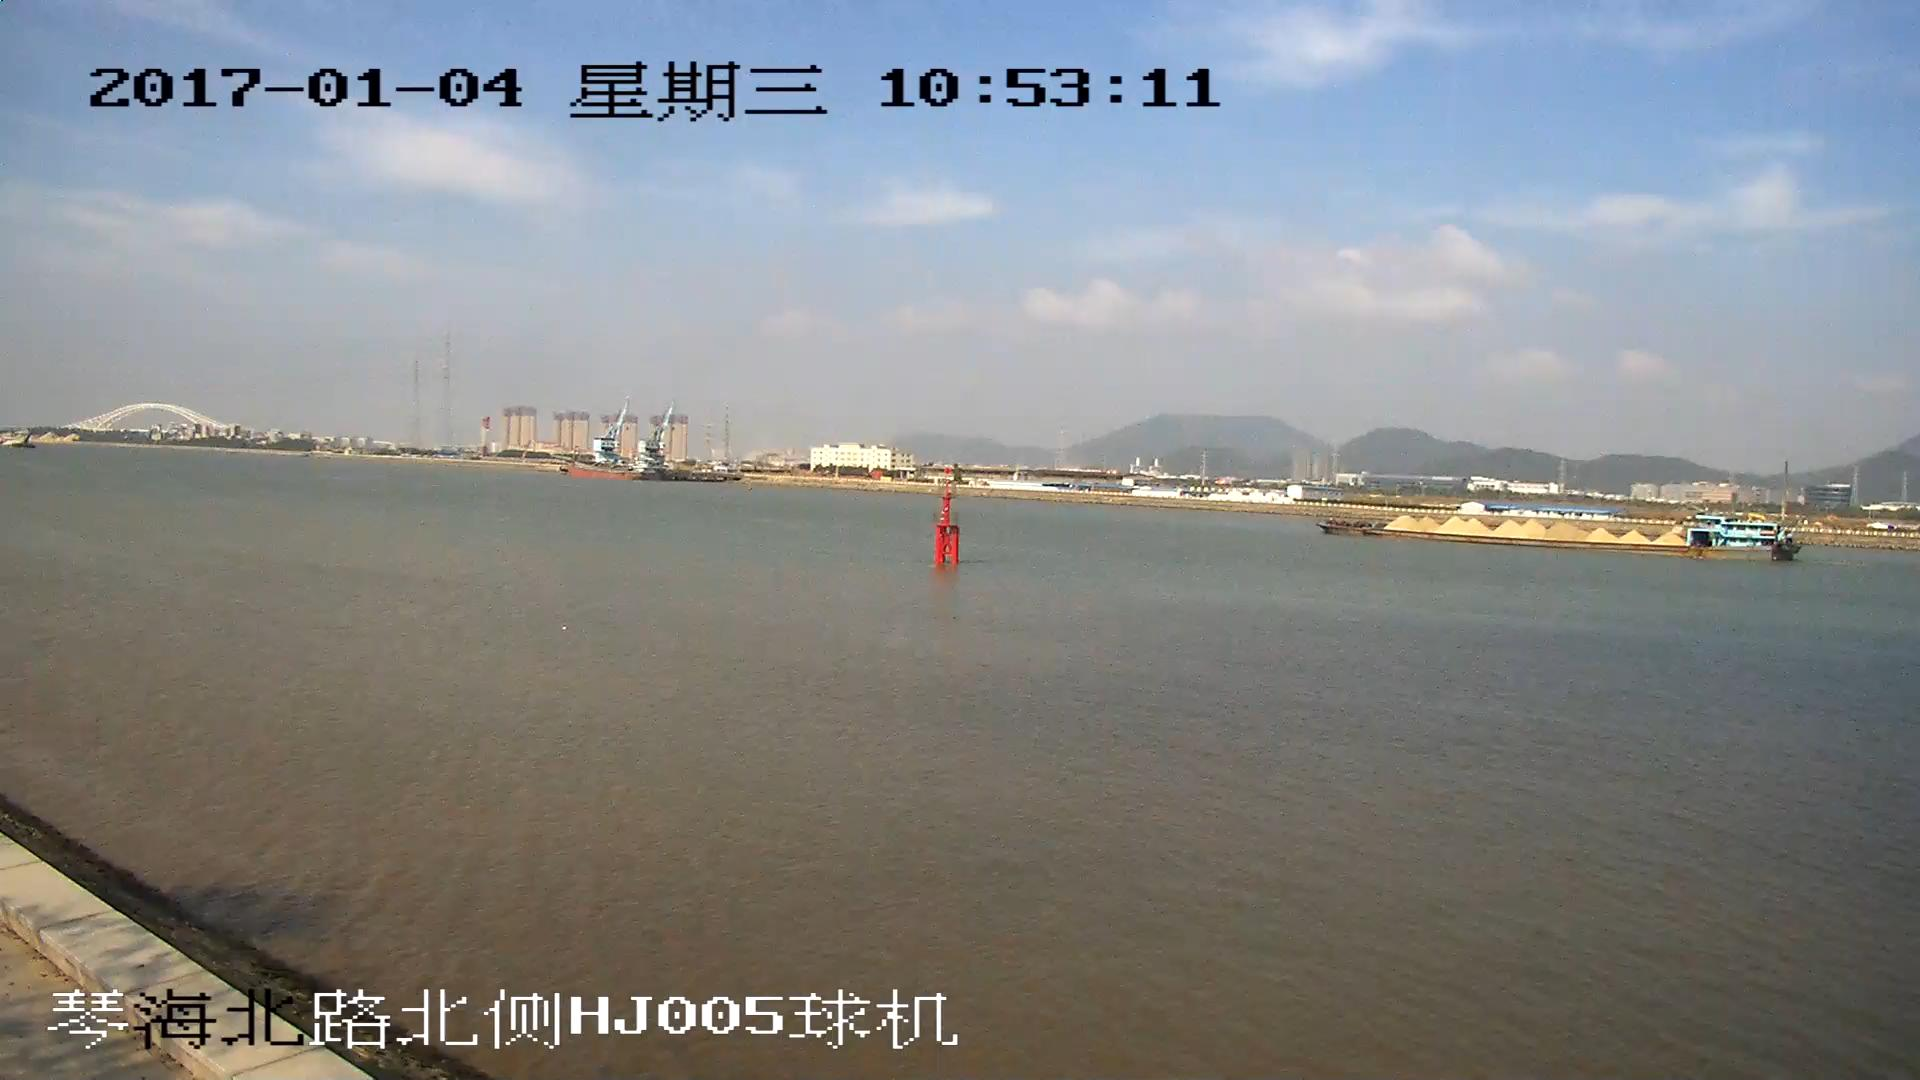ore carrier: (1326, 507, 1789, 564)
